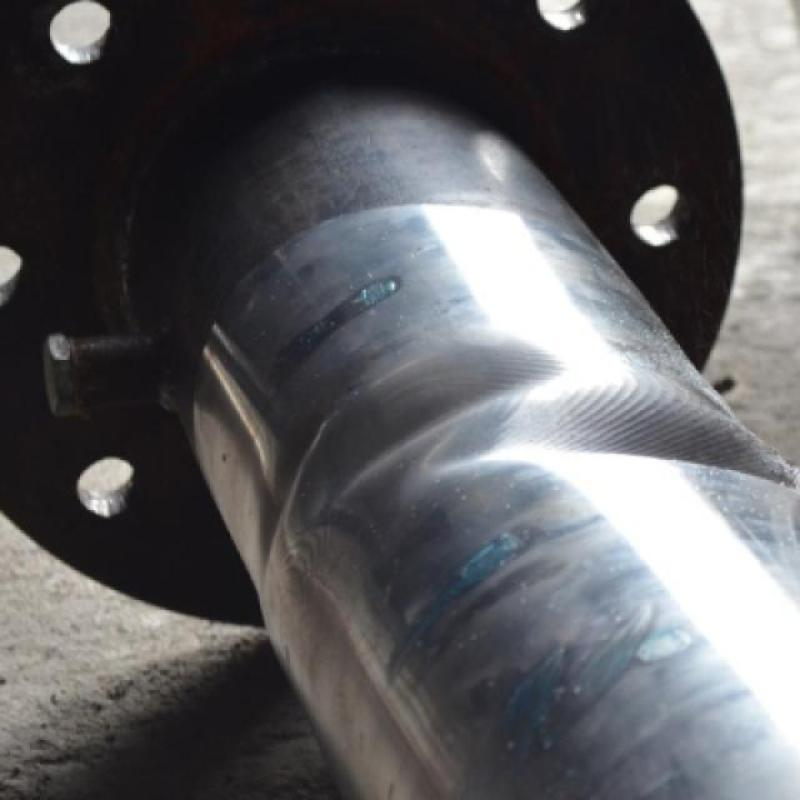Dent: (260, 372, 800, 518)
